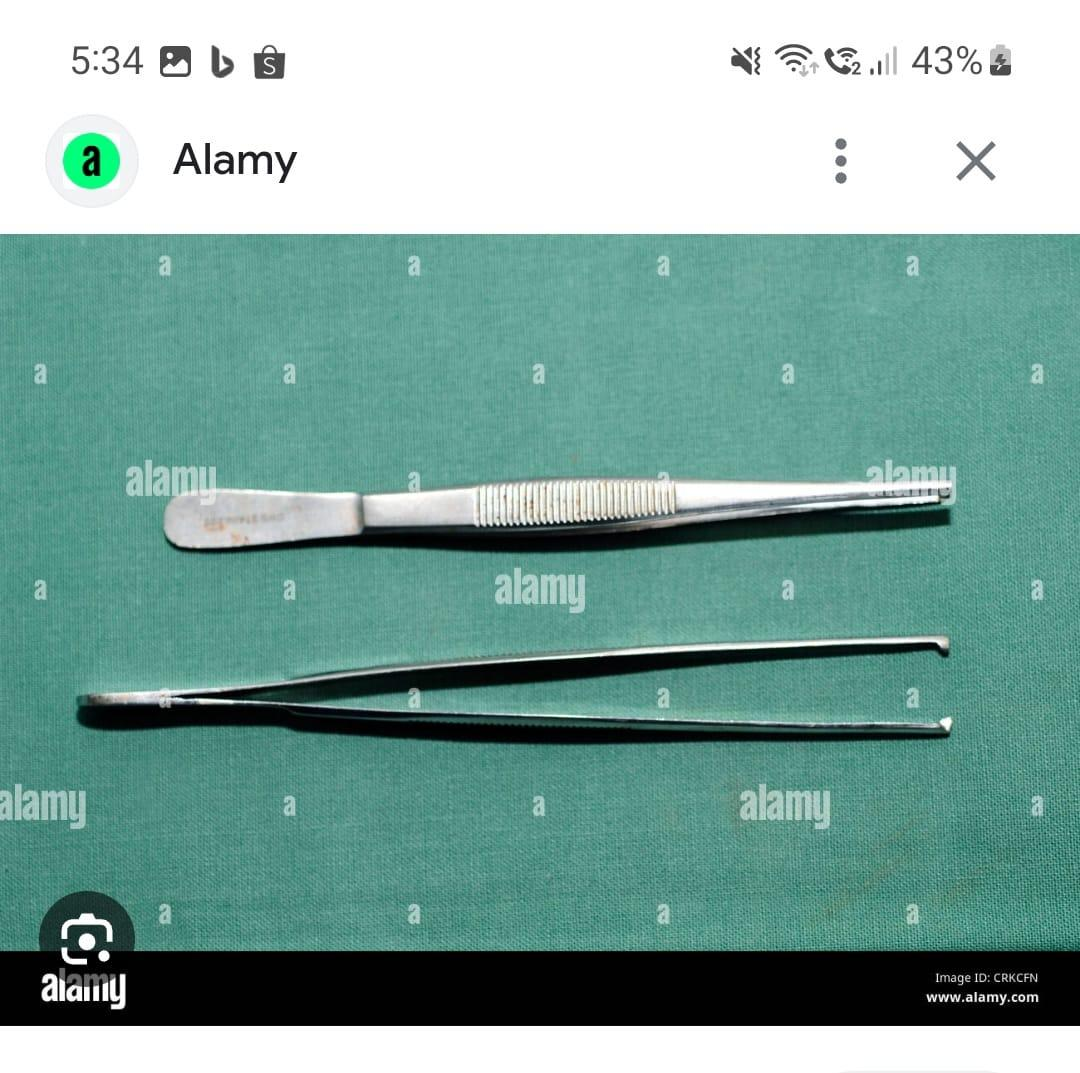Dissecting Forceps Tooth: (68, 613, 962, 760)
